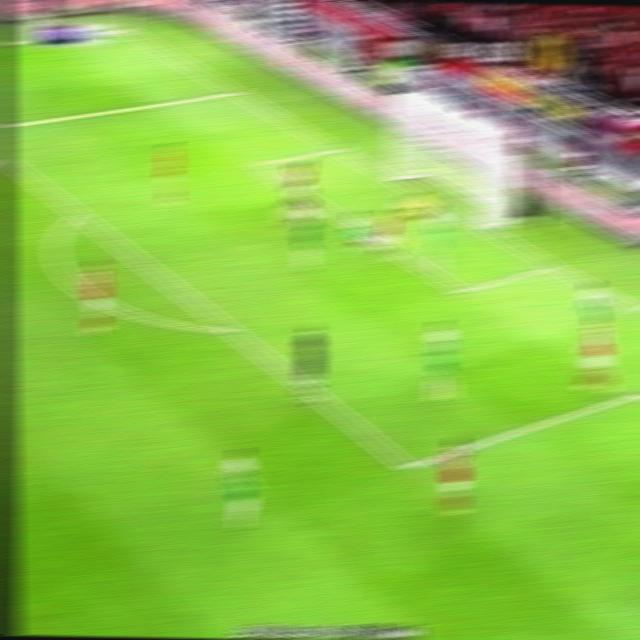bigarea_bottom_inner: (396, 452, 424, 480)
bigarea_top_outter: (225, 83, 247, 99)
bottom_arc_area_intersection: (218, 318, 243, 339)
corner: (114, 24, 137, 34)
smallarea_bottom_inner: (450, 280, 475, 302)
smallarea_bottom_outter: (542, 256, 567, 274)
smallarea_top_inner: (245, 156, 267, 172)
smallarea_top_outter: (328, 140, 350, 156)
top_arc_area_intersection: (69, 204, 87, 220)
